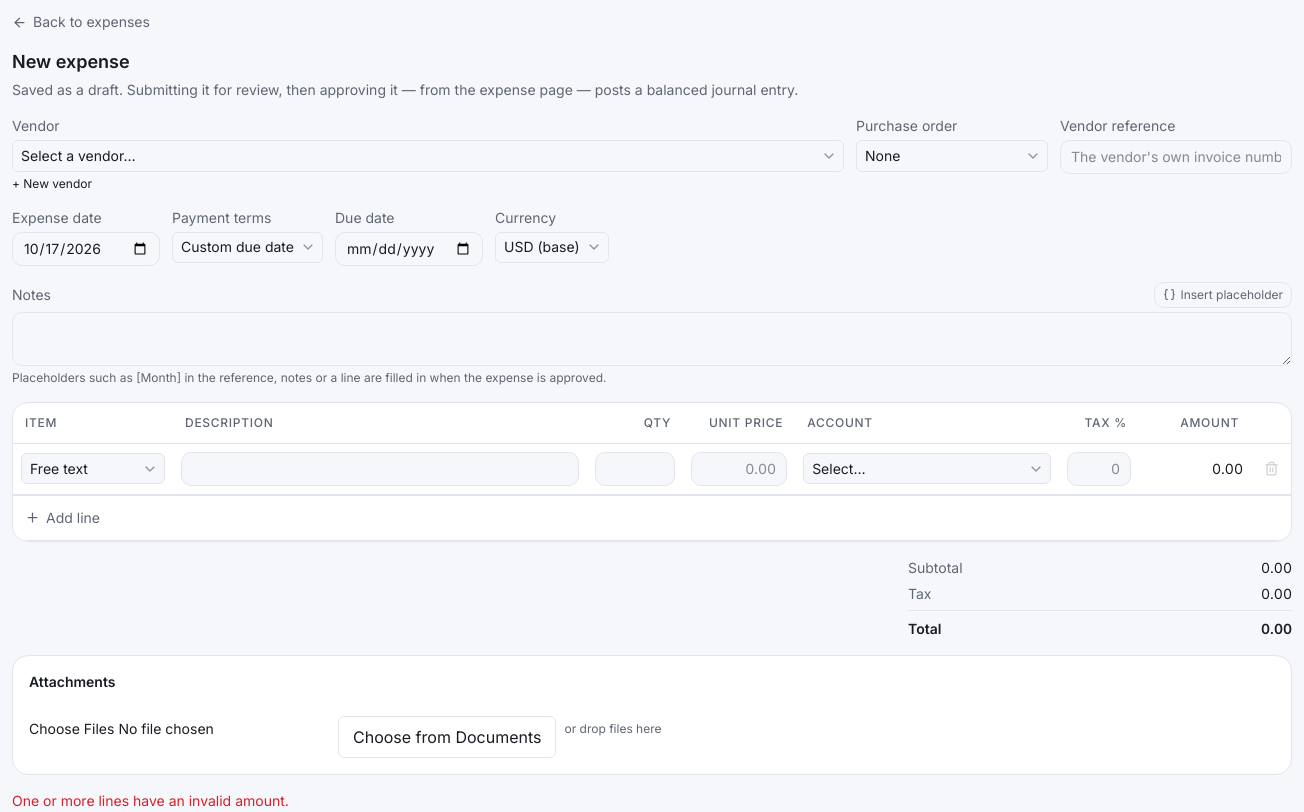
Test: the product picker on the bill form › an inventory item fills the inventory account and locks the account select
Select "GEN-00001 · Widget · 12 EA on hand" in the dropdown named "Item for line 1": (93, 469) [21, 453, 165, 484]
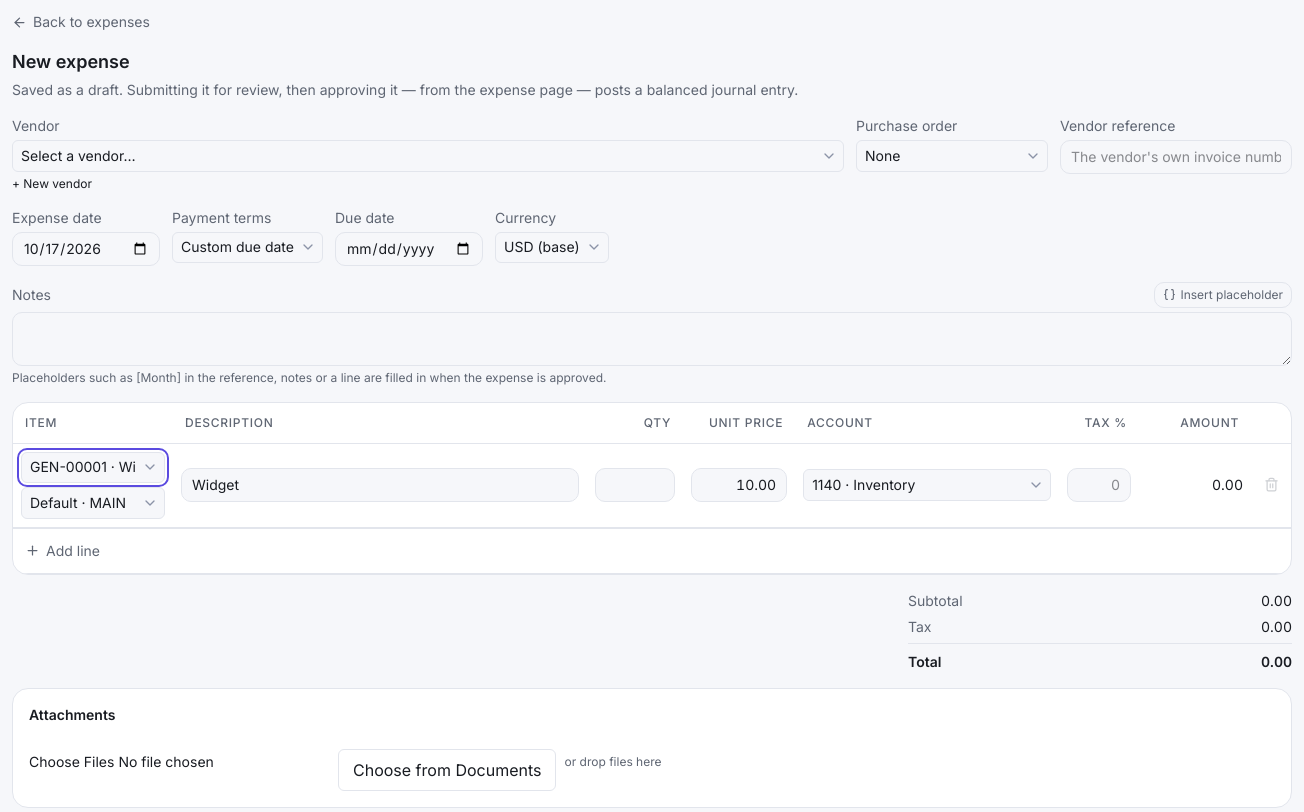
Expected: the dropdown named "Account for line 1" shows "1140 · Inventory", [803, 469, 1051, 501]
Expected: the dropdown named "Account for line 1" is disabled, [803, 469, 1051, 501]
Expected: the field named "Unit price for line 1" holds "10.00", [691, 468, 787, 502]
